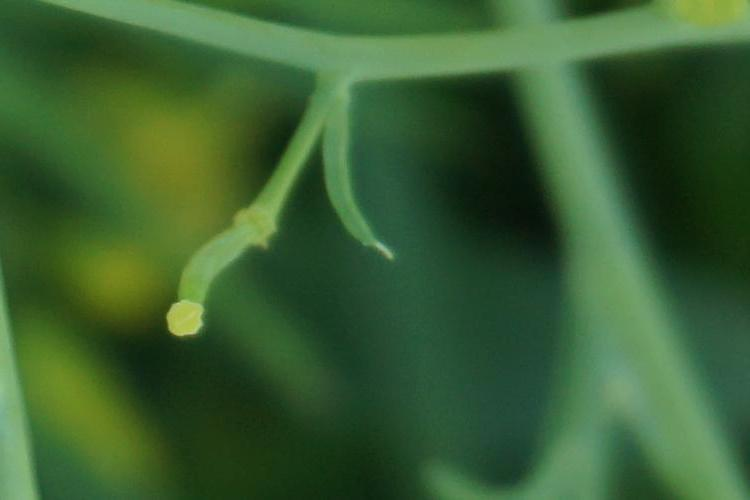pod: (150, 200, 296, 357)
